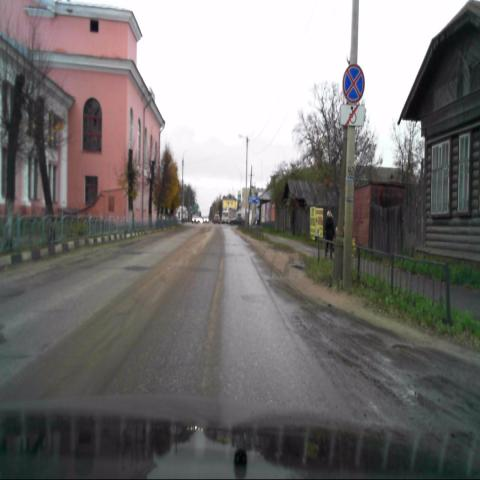8_18: (340, 103, 364, 127)
